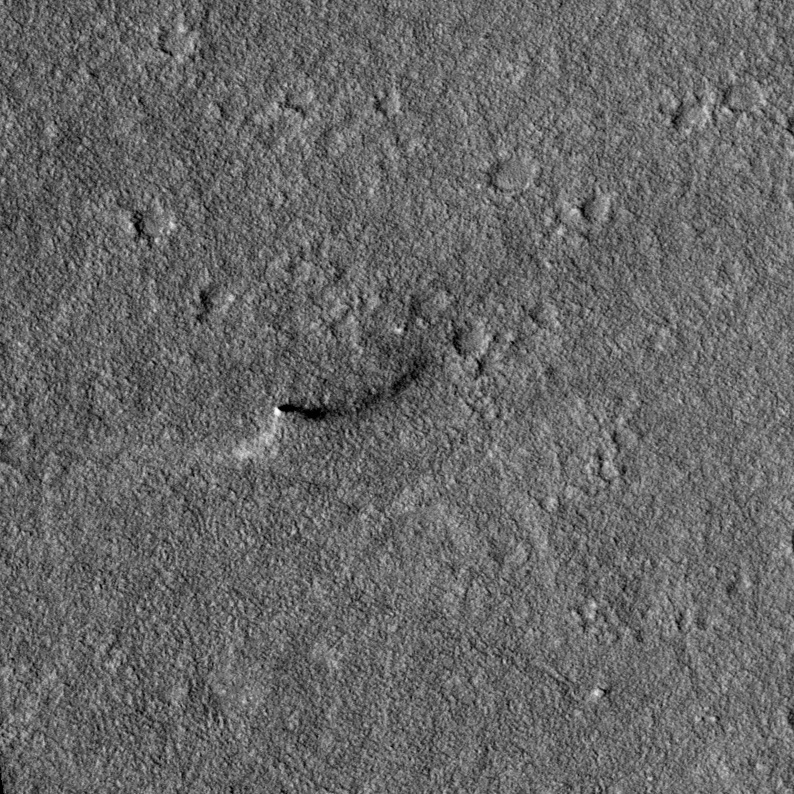dust_devil: (226, 348, 446, 466)
